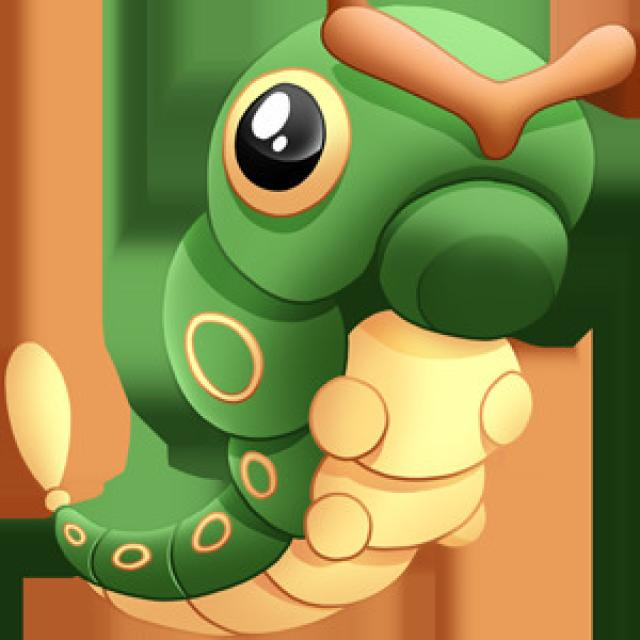Caterpie: (23, 11, 618, 627)
